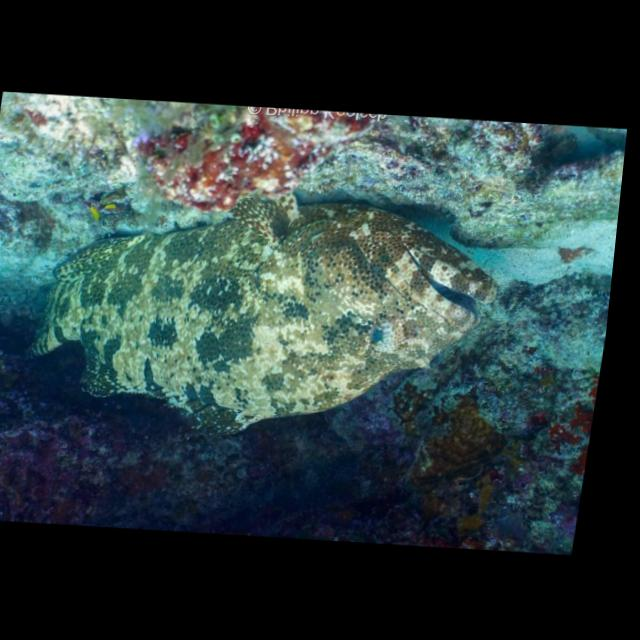Groupers: (16, 179, 512, 449)
